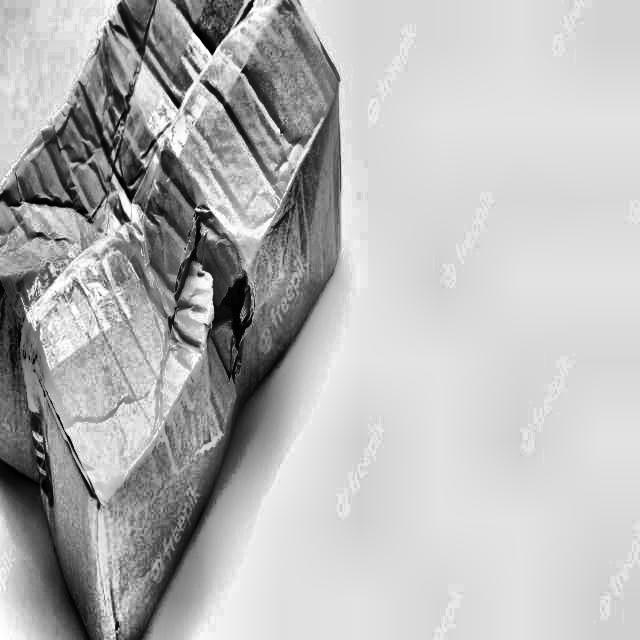box: (0, 0, 349, 639)
hole: (152, 210, 260, 369)
